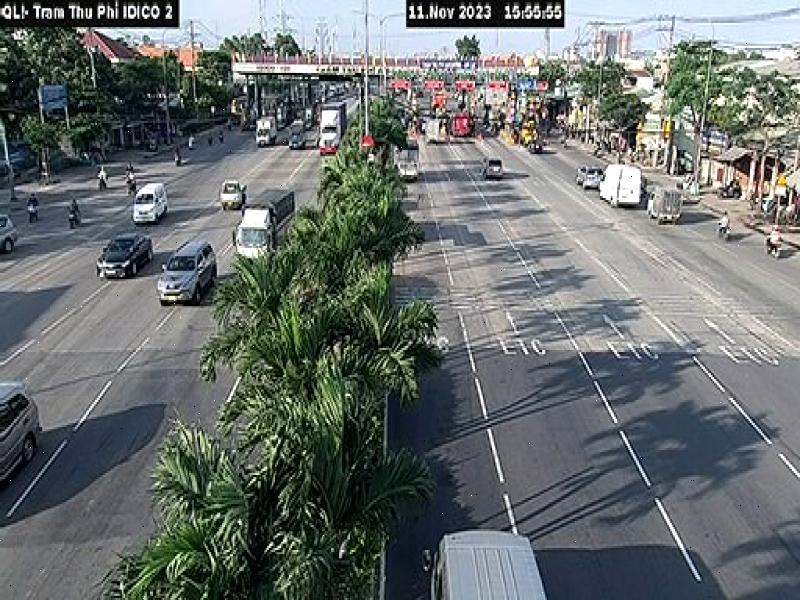truck: (238, 188, 296, 256), (647, 184, 686, 224)
